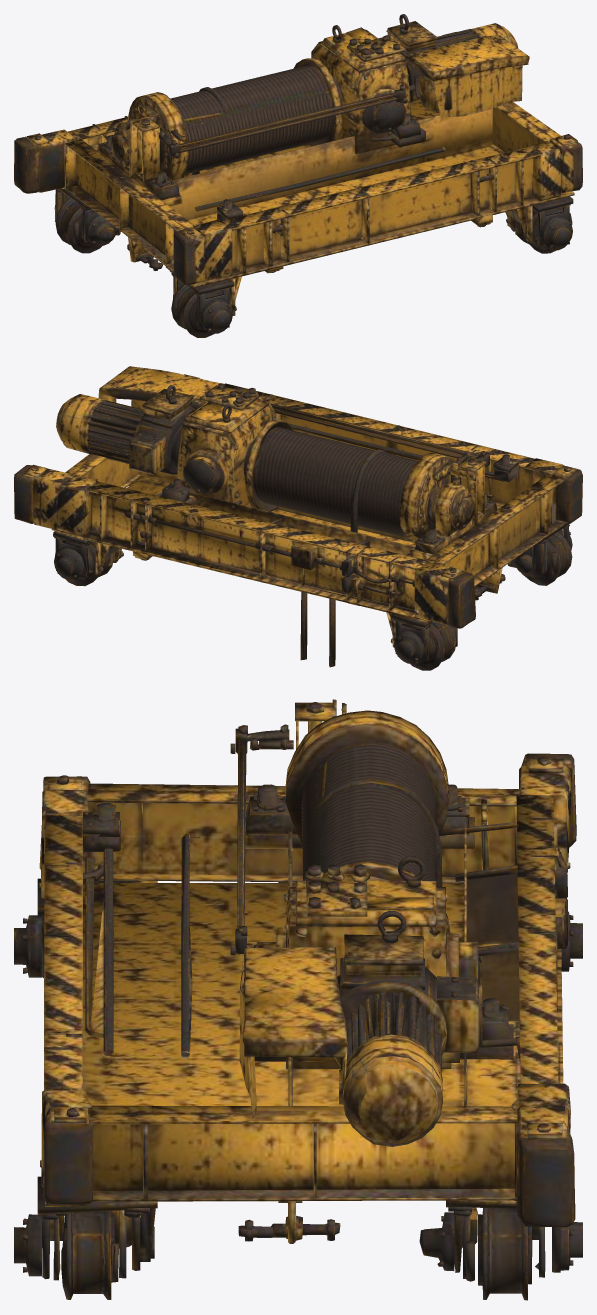
The model's file is reactor-crane-trolley.glb.
3 views of the same model, one above another, from view 1: azimuth 30°, elevation 25°; view 2: azimuth 150°, elevation 25°; view 3: azimuth 270°, elevation 25° (orthographic). The views are drawn at different scales.
Parts seen in each view (by area): view 1: reactor-crane-trolley; view 2: reactor-crane-trolley; view 3: reactor-crane-trolley.
Boxes of the visible parts, left/top/right/bottom form: reactor-crane-trolley: left=14, top=14, right=582, bottom=337; reactor-crane-trolley: left=14, top=366, right=582, bottom=670; reactor-crane-trolley: left=14, top=699, right=582, bottom=1300.
Size of the model in its own units: 4 by 1.78 by 2.42.
1 material, 1 textured.
